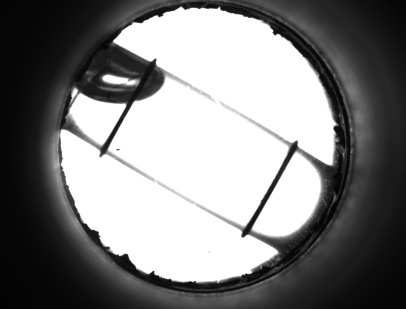line: (245, 160, 292, 220), (102, 111, 130, 141)
